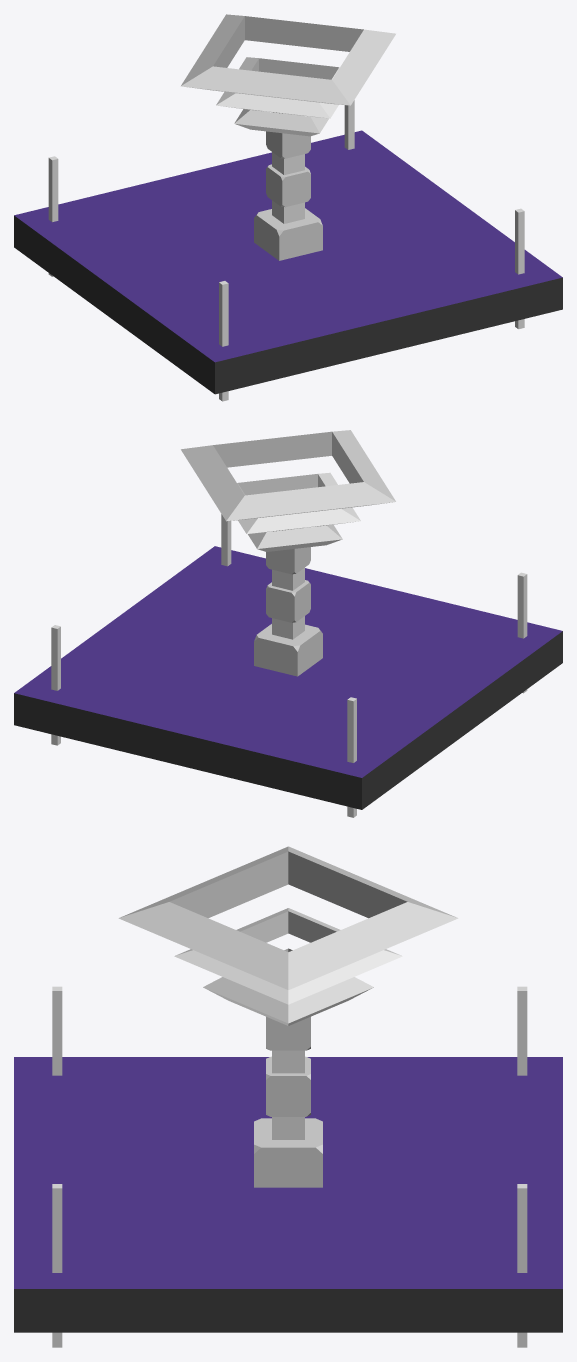
The model's file is island_1.fbx.
The picture shows the model from 3 angles, top to bottom: view 1: azimuth 30°, elevation 25°; view 2: azimuth 150°, elevation 25°; view 3: azimuth 270°, elevation 25°; orthographic projection. The views are drawn at different scales.
Visible parts, largest first — view 1: Island, Torus.001, Torus.002, Cube.047, Torus, Cube.049, Cube.053, Cube.054, Cube.051, Cube.048, Cube.050; view 2: Island, Torus.001, Torus.002, Cube.047, Torus, Cube.049, Cube.053, Cube.054, Cube.051, Cube.048, Cube.050; view 3: Island, Torus.001, Torus.002, Cube.047, Torus, Cube.054, Cube.049, Cube.053, Cube.051, Cube.050, Cube.048.
Boxes of the visible parts, bbox=[...] form: Island: bbox=[14, 130, 562, 394]; Torus.001: bbox=[181, 14, 395, 105]; Torus.002: bbox=[216, 57, 339, 118]; Cube.047: bbox=[254, 208, 322, 260]; Torus: bbox=[234, 109, 329, 136]; Cube.049: bbox=[266, 164, 310, 207]; Cube.053: bbox=[48, 156, 228, 401]; Cube.054: bbox=[344, 100, 524, 329]; Cube.051: bbox=[266, 131, 310, 158]; Cube.048: bbox=[272, 200, 304, 223]; Cube.050: bbox=[272, 152, 304, 175]; Island: bbox=[14, 546, 562, 809]; Torus.001: bbox=[181, 430, 395, 521]; Torus.002: bbox=[237, 472, 360, 533]; Cube.047: bbox=[254, 624, 322, 676]; Torus: bbox=[248, 524, 342, 551]; Cube.049: bbox=[266, 580, 310, 622]; Cube.053: bbox=[347, 572, 527, 817]; Cube.054: bbox=[51, 514, 231, 745]; Cube.051: bbox=[266, 547, 310, 574]; Cube.048: bbox=[272, 616, 304, 639]; Cube.050: bbox=[272, 568, 304, 590]; Island: bbox=[14, 1057, 562, 1332]; Torus.001: bbox=[118, 846, 458, 989]; Torus.002: bbox=[174, 908, 402, 1004]; Cube.047: bbox=[254, 1118, 322, 1187]; Torus: bbox=[203, 948, 373, 1025]; Cube.054: bbox=[52, 1184, 527, 1347]; Cube.049: bbox=[266, 1056, 310, 1116]; Cube.053: bbox=[52, 986, 527, 1075]; Cube.051: bbox=[266, 1017, 310, 1050]; Cube.050: bbox=[272, 1050, 304, 1073]; Cube.048: bbox=[272, 1117, 304, 1139].
Bounding box in the file's own units: 800 × 556 × 800.
